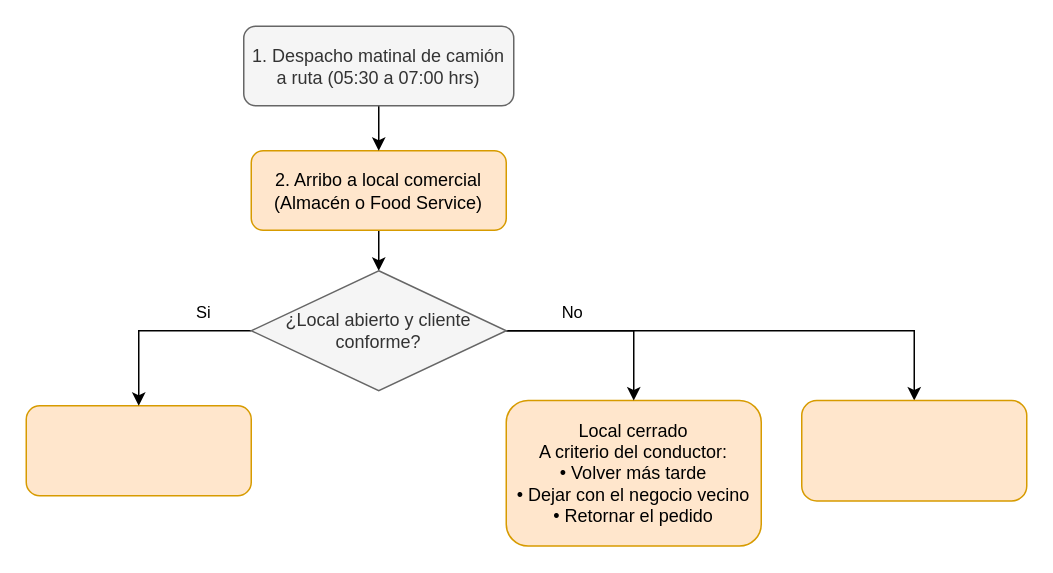
This 1053x573 diagram has some shape labels left out. The centre of each missing label's shape, as x and y in pixels:
3. Firma física de guía de despacho en papel: the point at 138,450
Producto rechazado Anotar en guía y retornar el producto rechazado: the point at 913,450
